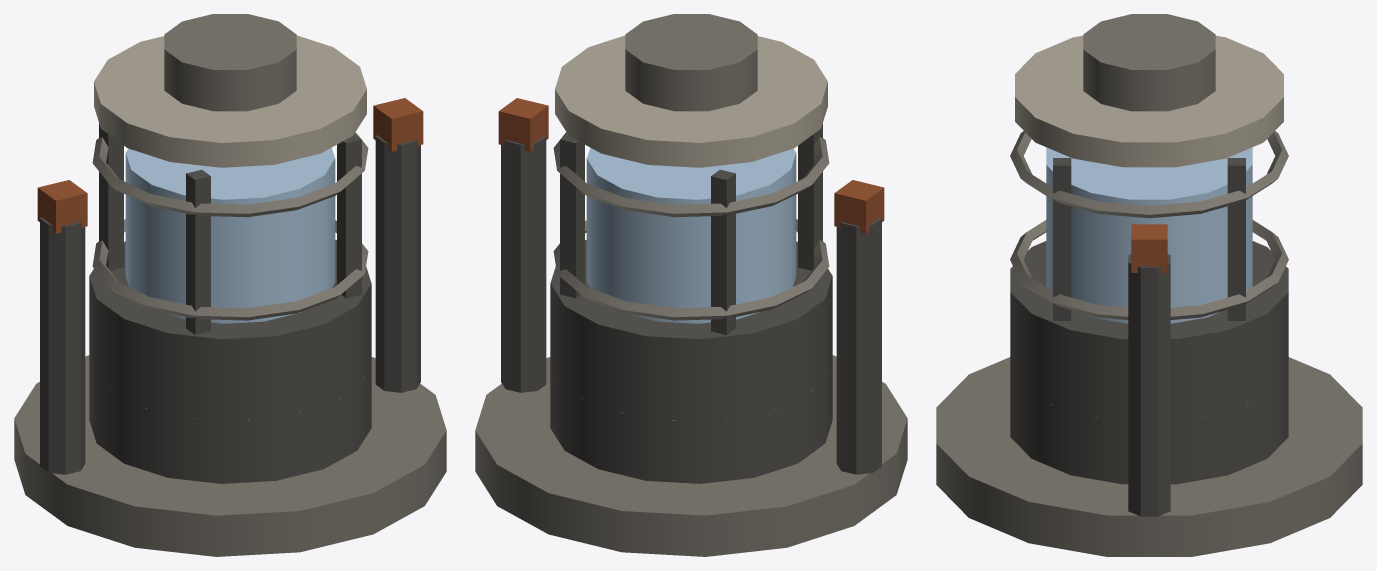
The model's file is civilian_reactor.glb.
The picture shows the model from 3 angles, left to right: view 1: azimuth 30°, elevation 25°; view 2: azimuth 150°, elevation 25°; view 3: azimuth 270°, elevation 25°; orthographic projection.
Parts seen in each view (by area): view 1: civilian_reactor; view 2: civilian_reactor; view 3: civilian_reactor.
Part boxes in pixels (x1,y1,x2,y2): civilian_reactor: (14, 14, 446, 556); civilian_reactor: (475, 14, 907, 556); civilian_reactor: (936, 14, 1362, 556).
Bounding box in the file's own units: 1.88 × 2.05 × 1.86.
